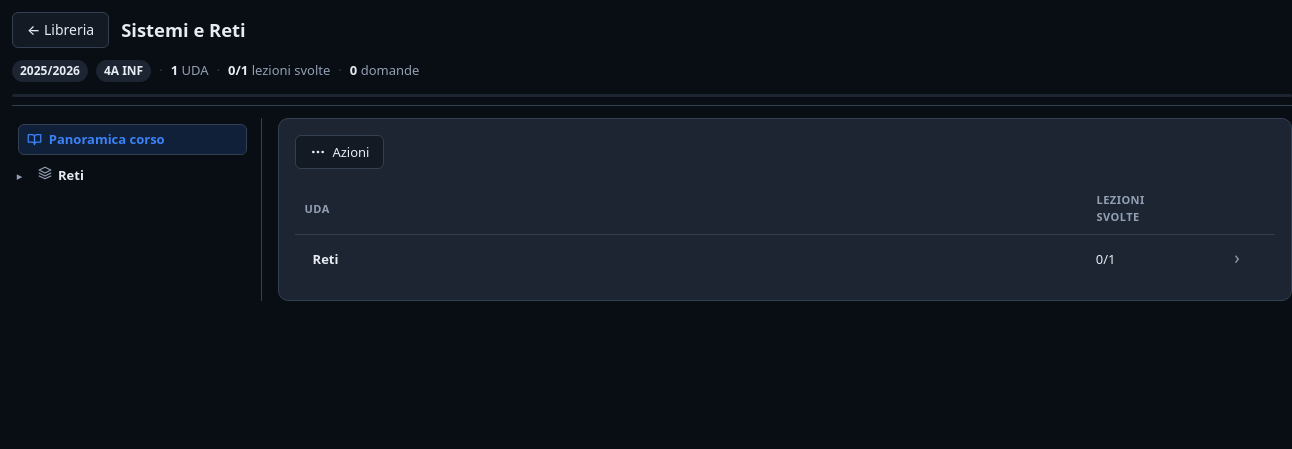
Test: CourseWorkspace — selection › non apre workflow dalla scheda Contenuto e richiede heading H2/H3 canonici
The image size is (1292, 449).
Expected: the button with aria-label "uda-01-reti" is shown, x1=30 y1=160 x2=253 y2=190
Click the button named "Espandi uda-01-reti" at (20, 175), box x1=12 y1=164 x2=27 y2=187
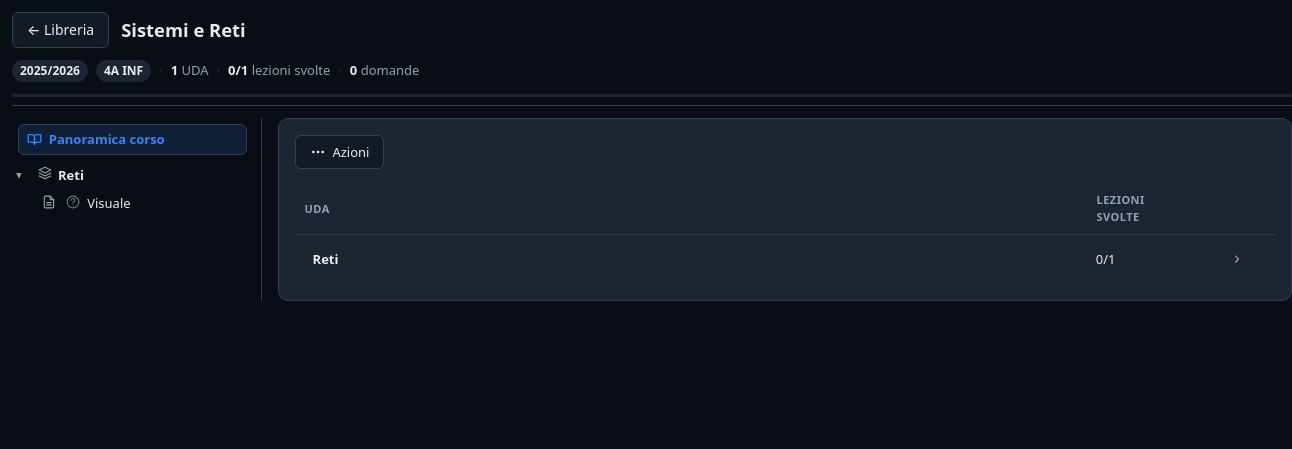
Click the button "Visuale" at (144, 204), box x1=34 y1=190 x2=253 y2=218
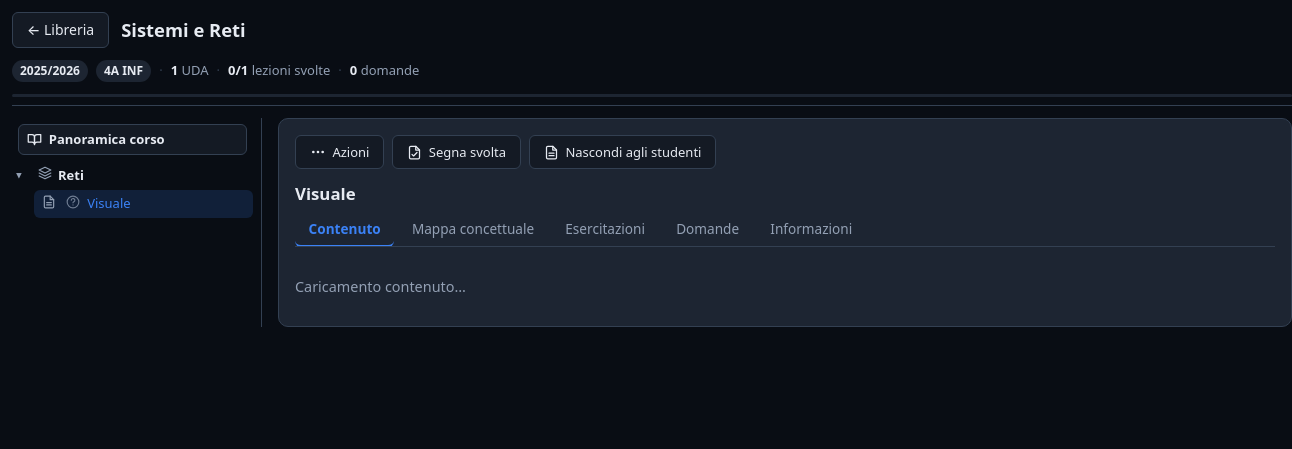
Click the button with aria-label "Azioni lezione" at (340, 152), box x1=295 y1=135 x2=384 y2=169
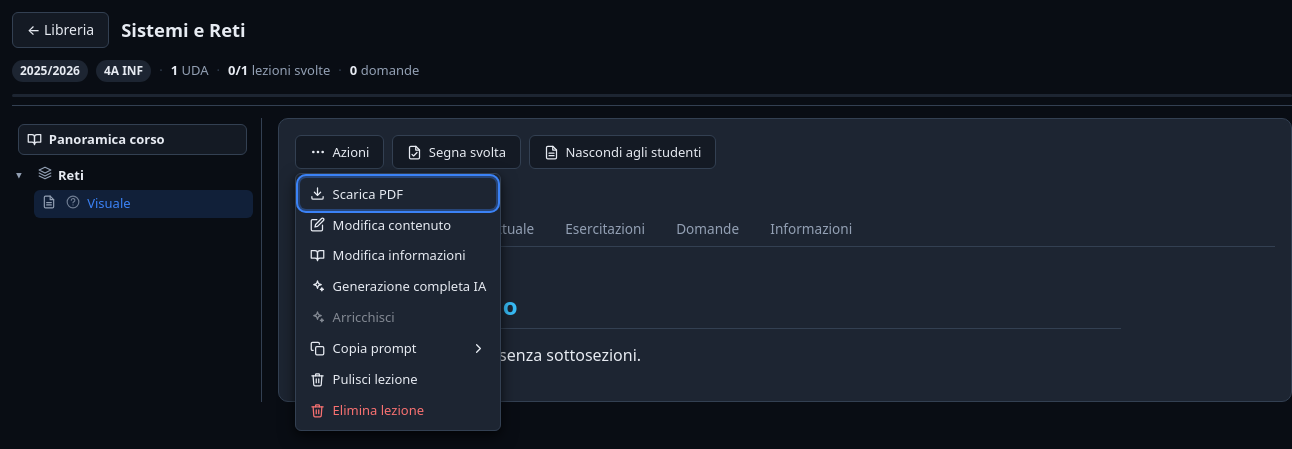
Now the menu item "Arricchisci" is disabled, box x1=300 y1=302 x2=496 y2=333
